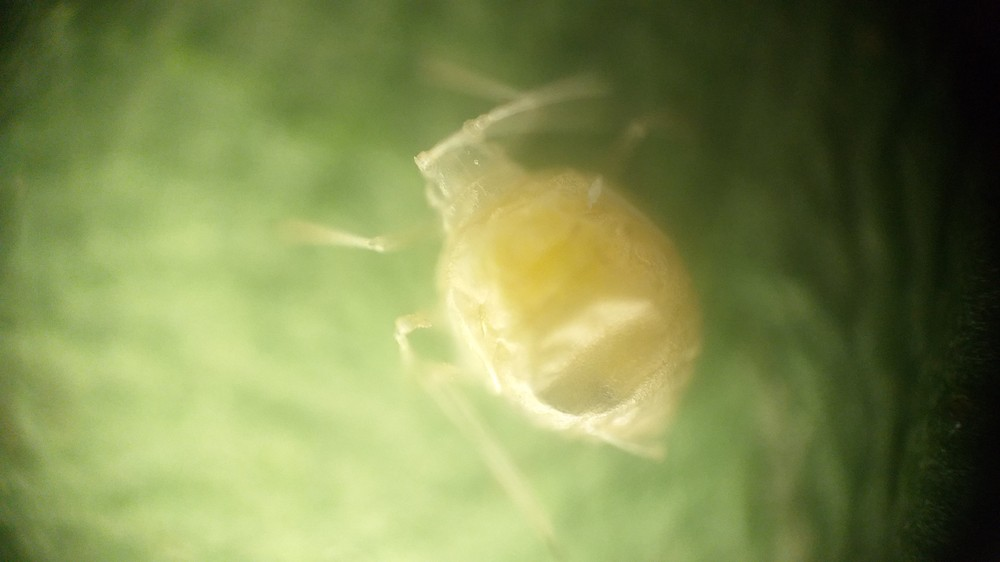Pulgon: (269, 51, 772, 542)
